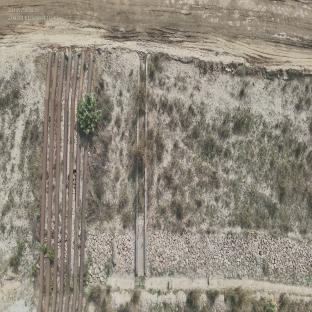rock_toe: (146, 229, 311, 287), (86, 233, 134, 274)
slope_drain: (134, 53, 153, 278)
vegetation: (74, 96, 102, 138)
